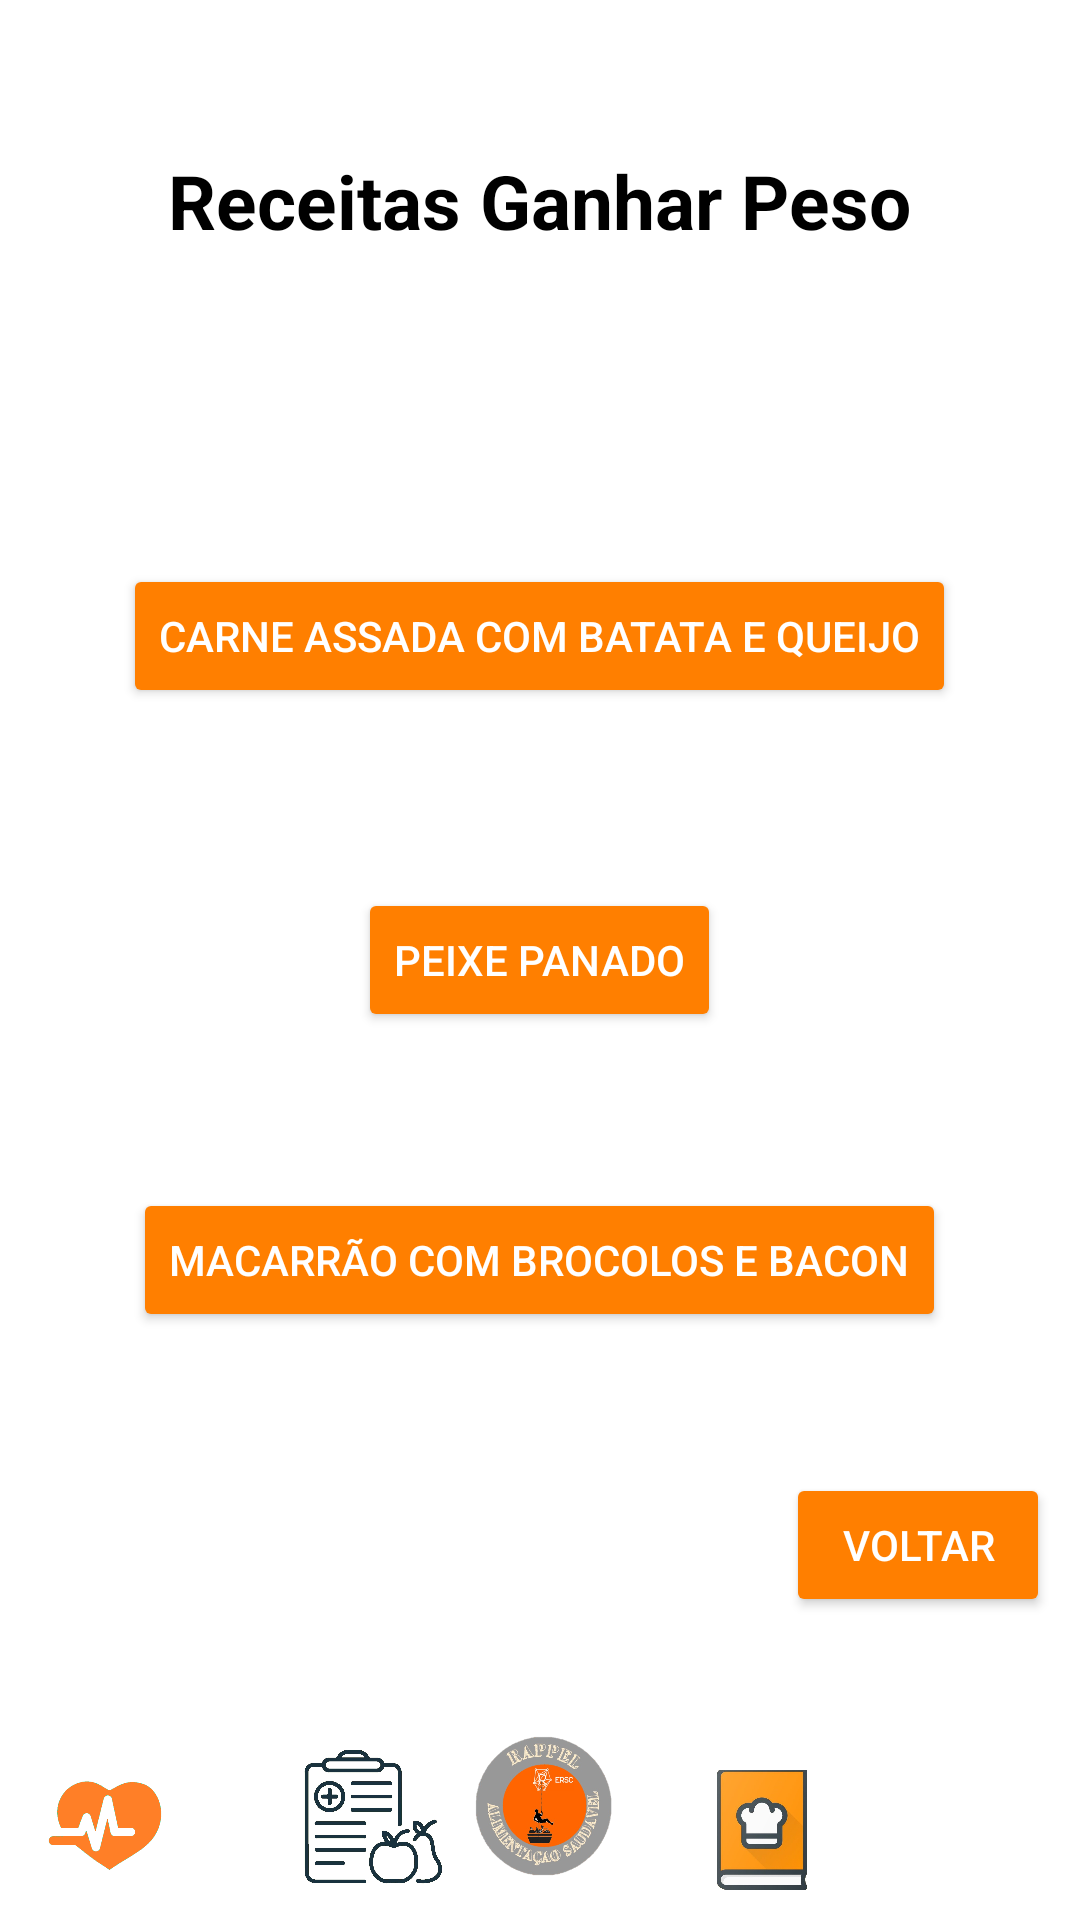

Where to tap for icons on this 1080 x 1920 app screen, as (x,y):
plano: (373,1816)
planodesaude: (105,1825)
